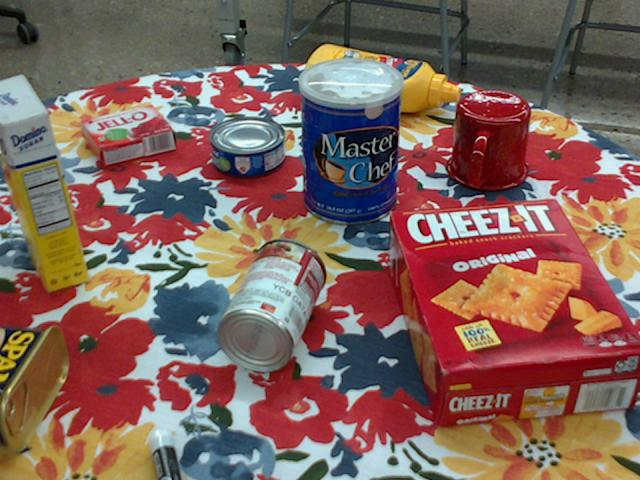cracker_box: (386, 199, 639, 428)
gelatin_box: (80, 107, 174, 168)
large_marker: (148, 428, 181, 479)
master_chef_can: (299, 58, 404, 226)
mug: (444, 91, 530, 192)
mustard_bottle: (302, 44, 459, 112)
potted_meat_can: (0, 323, 68, 449)
sugar_box: (0, 73, 87, 291)
tomato_soup_can: (217, 238, 325, 373)
tuna_fish_can: (208, 117, 284, 178)
